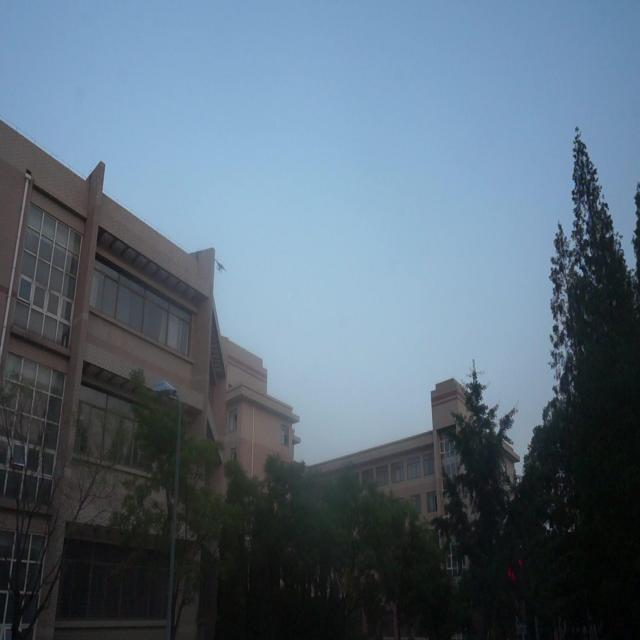UAV: (215, 258, 227, 274)
